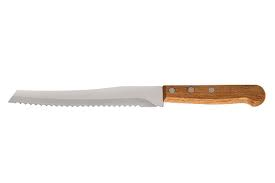knife: (7, 83, 266, 109)
